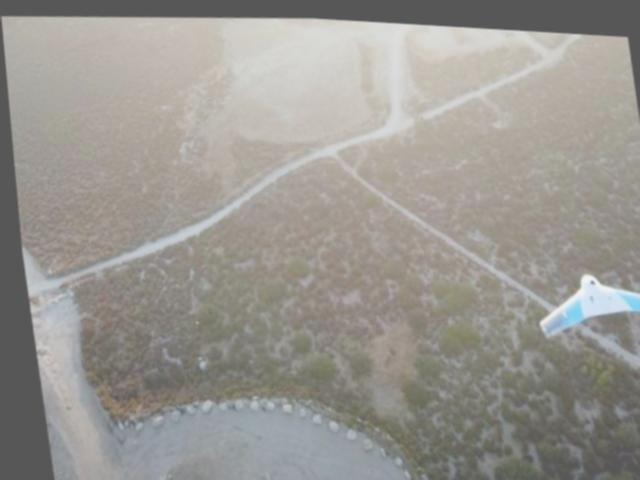iha: (524, 254, 640, 339)
